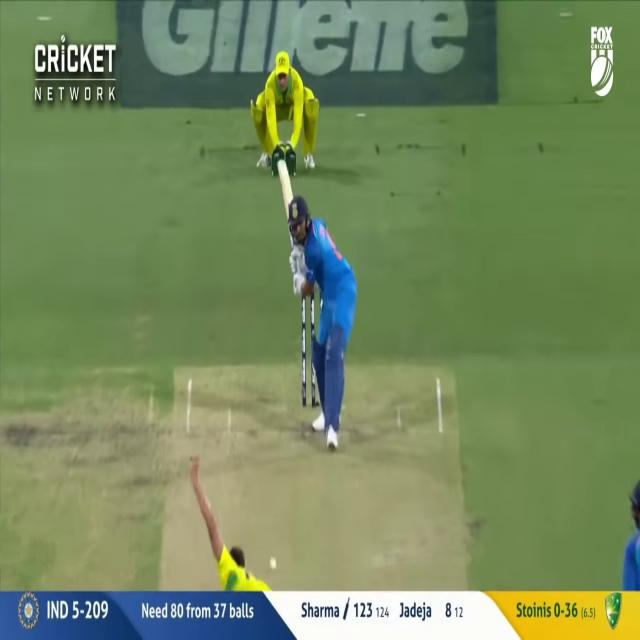ball: (270, 556, 277, 574)
stump: (301, 283, 324, 408)
